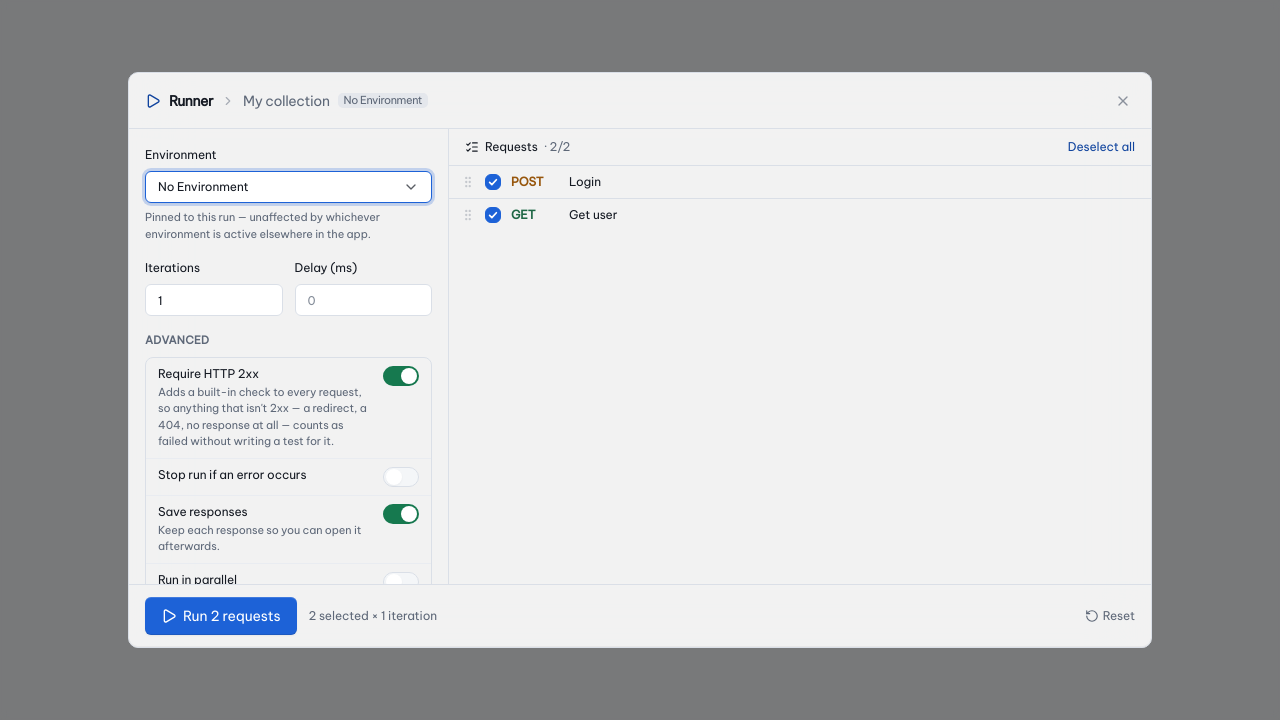
RunnerDialog run loop › rolls response codes up per request across iterations
The width and height of the screenshot is (1280, 720).
Replace the text in the field labelled "Iterations" with "2" at (214, 300), box left=145, top=284, right=282, bottom=316
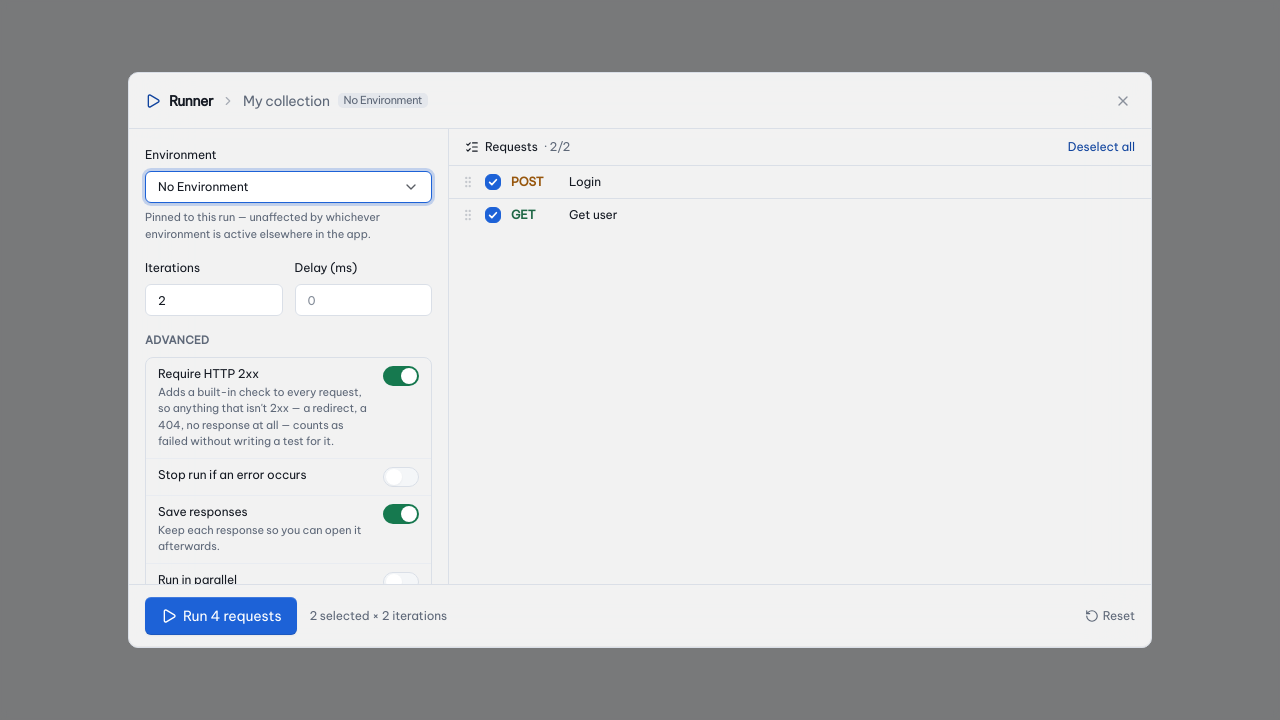
Click the button "Run 4 requests".
click(221, 616)  # box left=145, top=597, right=297, bottom=635
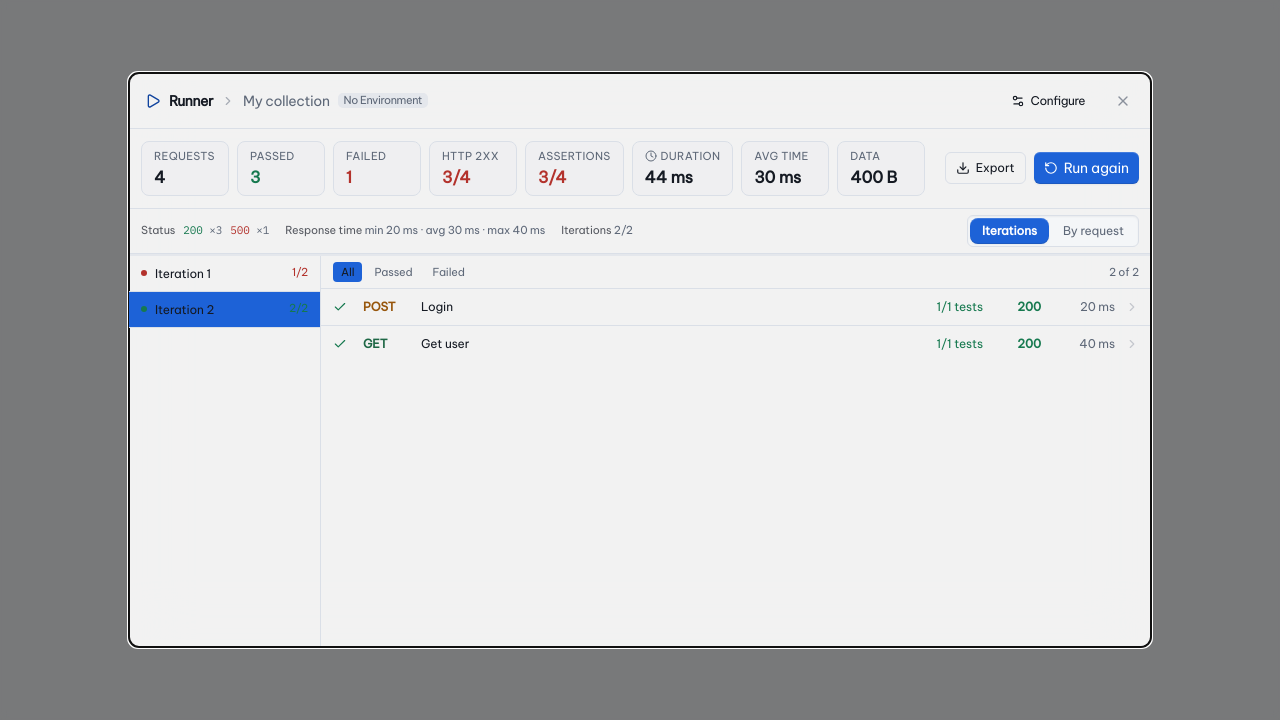
Click the tab "By request".
click(1094, 230)  # box left=1051, top=218, right=1136, bottom=244
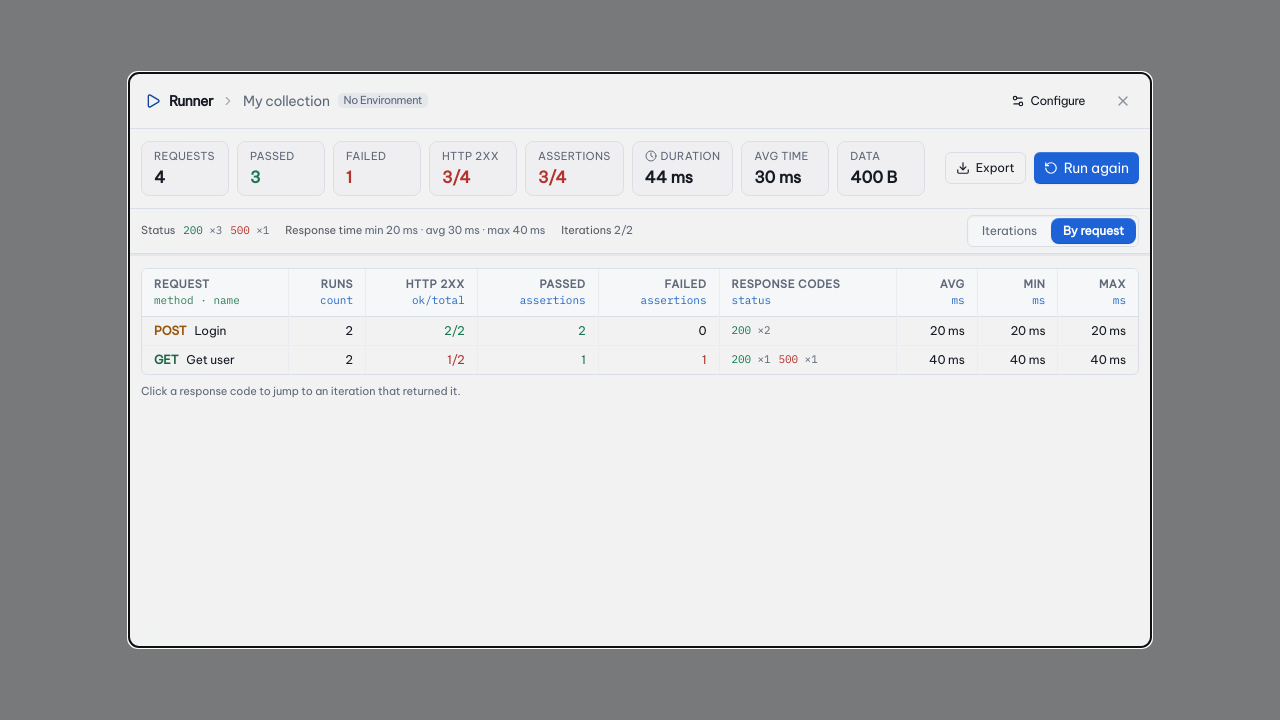
Check: the button "200 ×2" is shown, box left=730, top=324, right=772, bottom=338
Check: the button "200 ×1" is shown, box left=730, top=352, right=772, bottom=367
Check: the button "500 ×1" in the row of "Get user" is shown, box left=777, top=352, right=820, bottom=367
